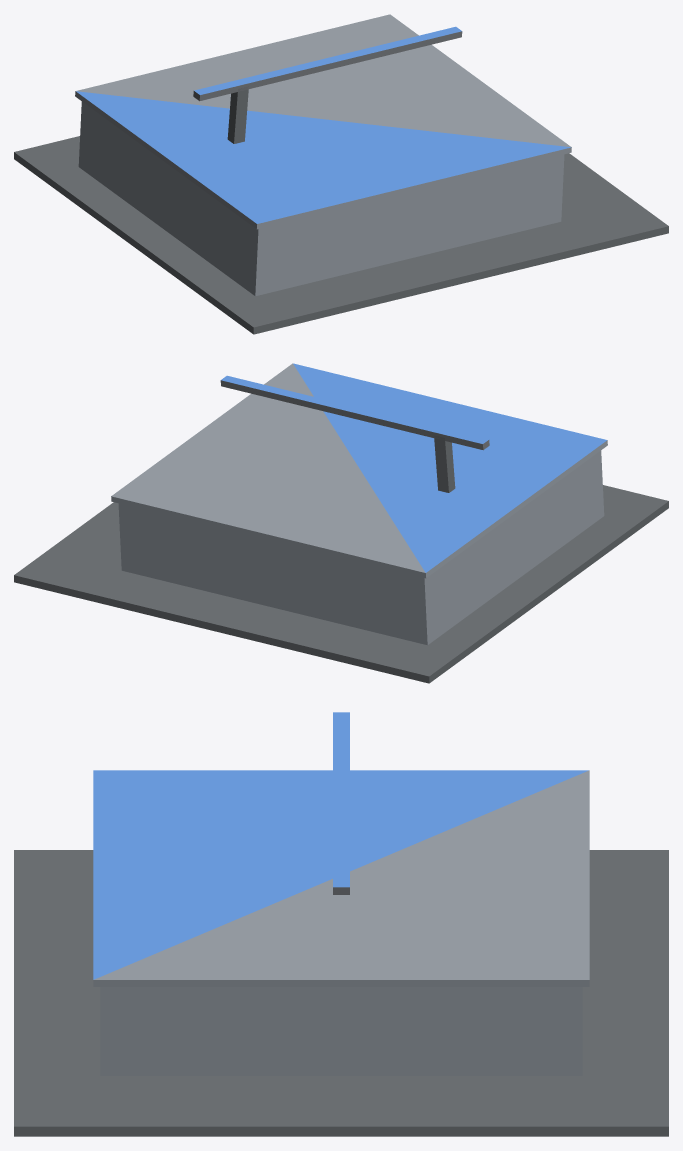
Rendered from veyran_construction_center_heavily_damaged.glb.
3 views of the same model, one above another, from view 1: azimuth 30°, elevation 25°; view 2: azimuth 150°, elevation 25°; view 3: azimuth 270°, elevation 25° (orthographic). The views are drawn at different scales.
Visible parts, largest first — view 1: hull, crane; view 2: hull, crane; view 3: hull, crane.
Boxes of the visible parts, x1,y1,x2,y2 form: hull: (14,14,668,334); crane: (193,26,462,143); hull: (14,363,668,683); crane: (220,375,489,492); hull: (14,770,668,1136); crane: (333,712,349,894).
Size of the model in its own units: 15.2 by 4.85 by 15.2.
